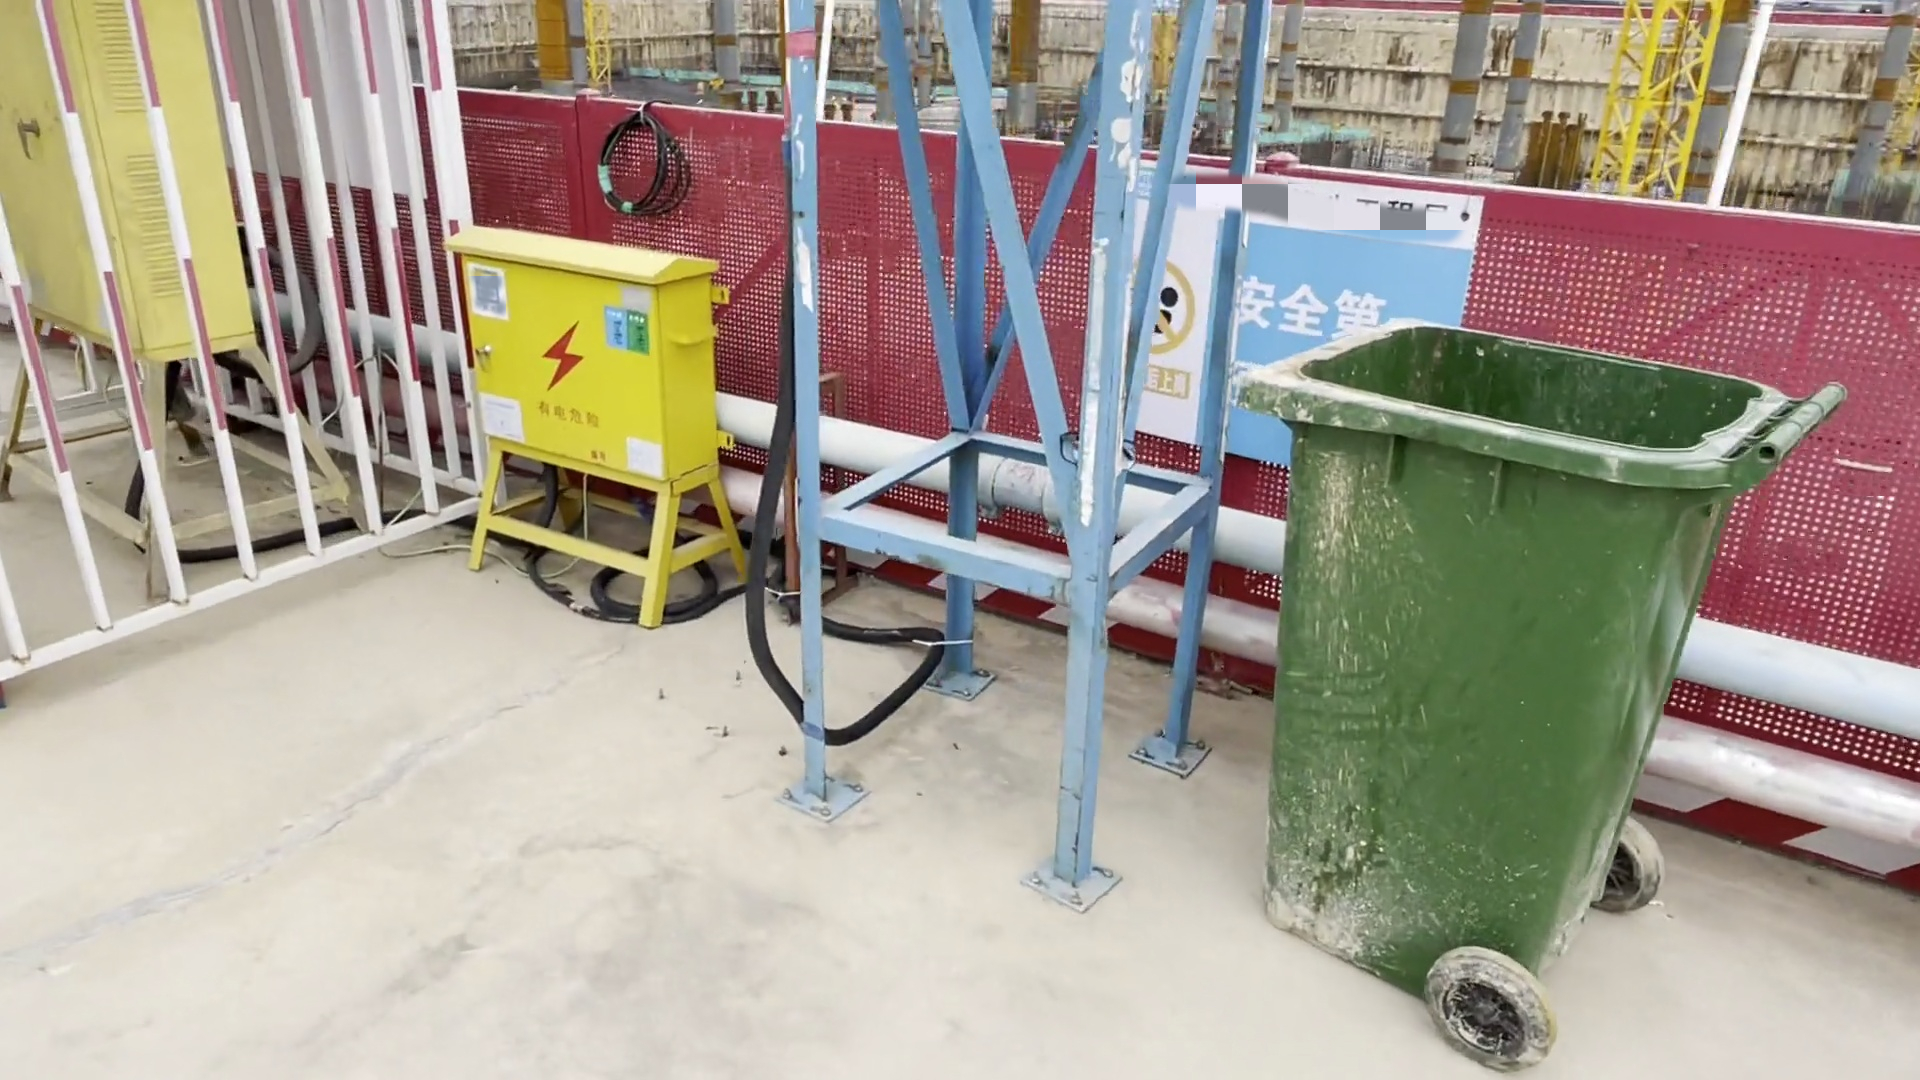ebox: (5, 1, 367, 546), (425, 215, 758, 607)
